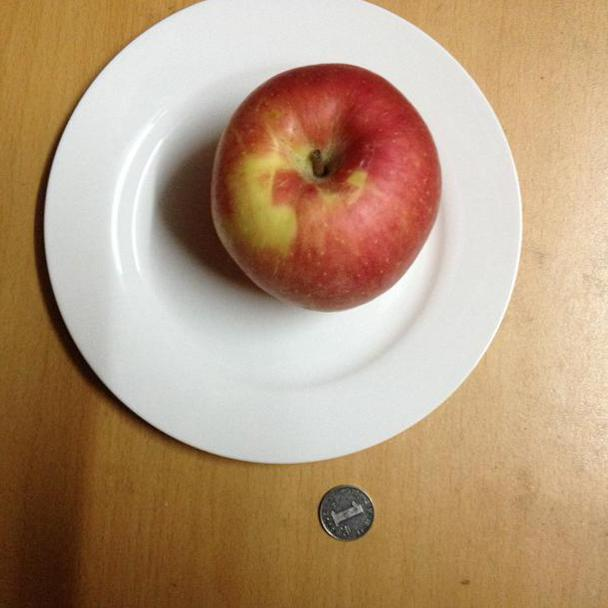apple: (210, 63, 441, 312)
